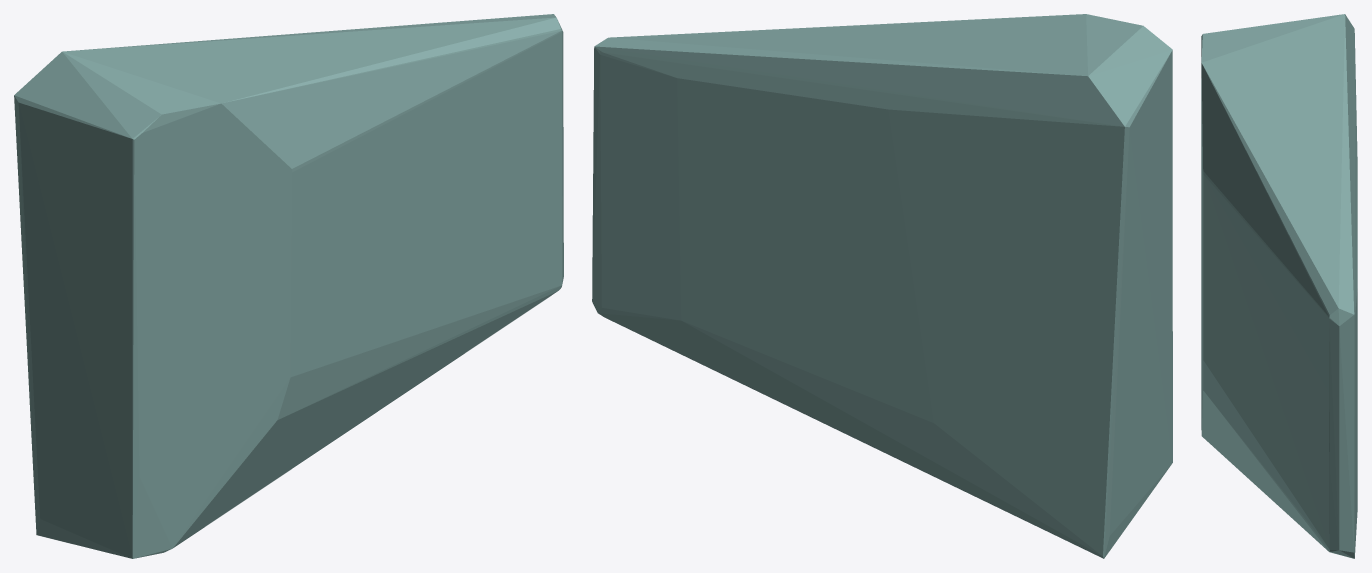
Rendered from engineComponent_engine_oil_pan_d01.glb.
3 renders of one model, left to right at view 1: azimuth 30°, elevation 25°; view 2: azimuth 150°, elevation 25°; view 3: azimuth 270°, elevation 25°, orthographic. The views are drawn at different scales.
Parts seen in each view (by area): view 1: geometry_0; view 2: geometry_0; view 3: geometry_0.
Part boxes in pixels (<box>): geometry_0: <box>14,14,563,558</box>; geometry_0: <box>592,14,1172,558</box>; geometry_0: <box>1201,14,1357,558</box>.
Size of the model in its own units: 0.479 by 0.4073 by 0.1315.
